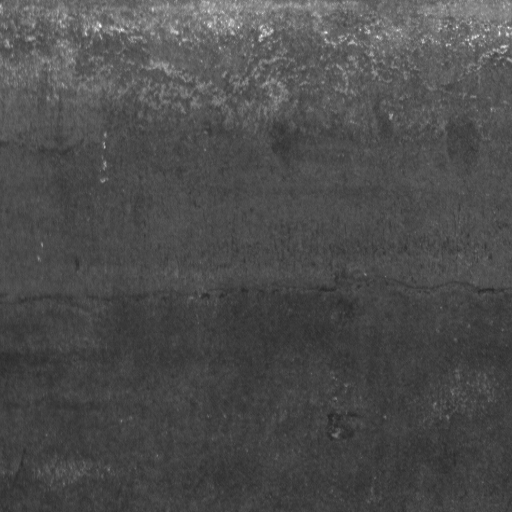hengxiangliewen: (2, 271, 511, 309)
